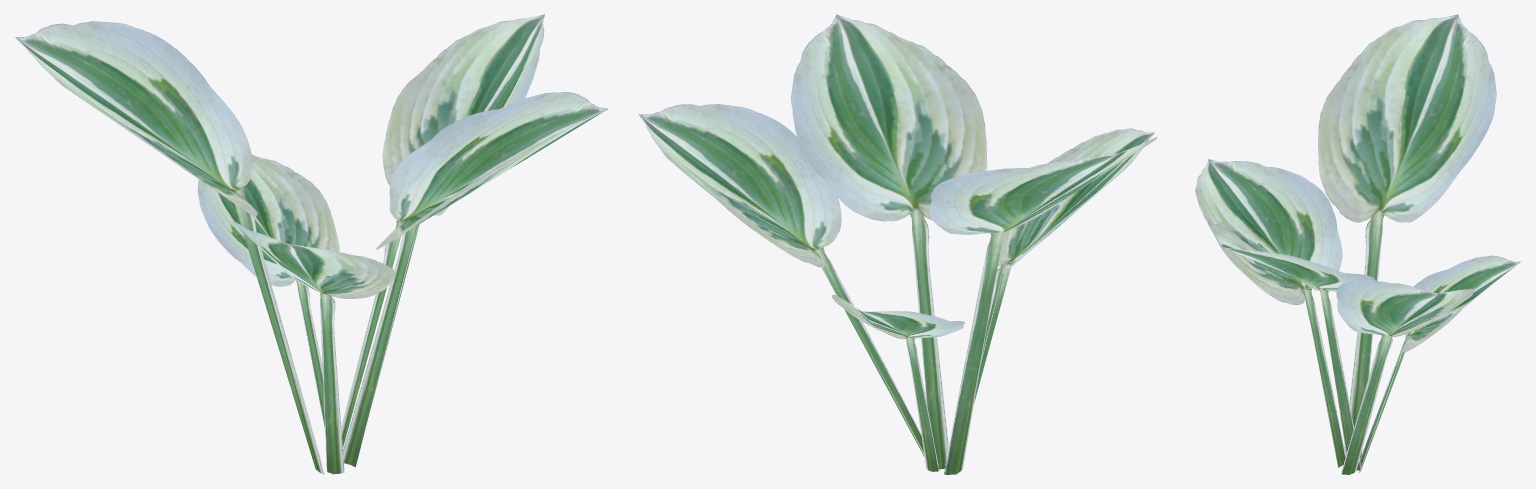
Rendered from plant_small_wg_01L.fbx.
The picture shows the model from 3 angles, left to right: view 1: azimuth 30°, elevation 25°; view 2: azimuth 150°, elevation 25°; view 3: azimuth 270°, elevation 25°; orthographic projection. The views are drawn at different scales.
Visible parts, largest first — view 1: plant_small_wg_01L; view 2: plant_small_wg_01L; view 3: plant_small_wg_01L.
Part boxes in pixels (x1,y1,x2,y2): plant_small_wg_01L: (15, 14, 608, 474); plant_small_wg_01L: (639, 14, 1157, 474); plant_small_wg_01L: (1195, 14, 1520, 474).
Size of the model in its own units: 61.25 by 49.77 by 41.97.
